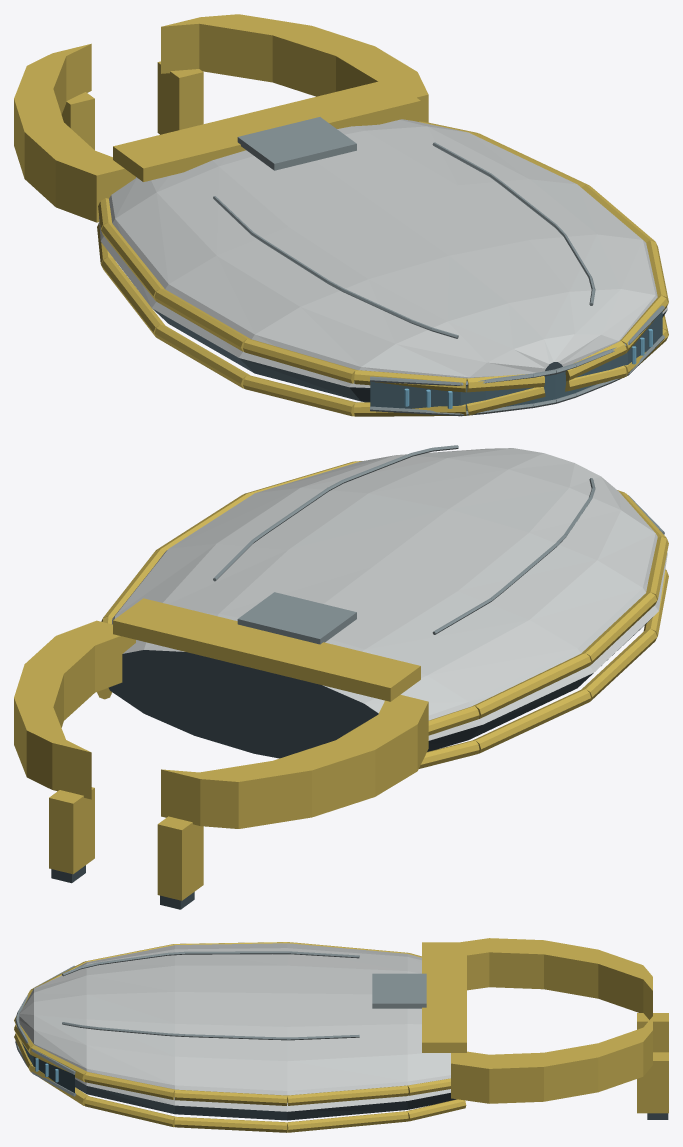
Rendered from rayfam_yellow_off.glb.
The picture shows the model from 3 angles, top to bottom: view 1: azimuth 30°, elevation 25°; view 2: azimuth 150°, elevation 25°; view 3: azimuth 270°, elevation 25°; orthographic projection. The views are drawn at different scales.
Visible parts, largest first — view 1: material_0, material_2, material_3, material_4, material_1, material_5; view 2: material_0, material_2, material_1, material_3; view 3: material_0, material_2, material_3, material_1, material_4.
Boxes of the visible parts, box(x1,y1,x2,y2) form: material_0: box(99, 119, 667, 387); material_2: box(14, 14, 668, 416); material_3: box(213, 117, 664, 416); material_4: box(370, 311, 662, 410); material_1: box(152, 308, 667, 402); material_5: box(404, 329, 652, 408); material_0: box(112, 448, 667, 740); material_2: box(14, 461, 668, 900); material_1: box(51, 617, 652, 909); material_3: box(213, 445, 664, 644); material_0: box(19, 943, 450, 1111); material_2: box(14, 938, 668, 1132); material_3: box(15, 951, 426, 1096); material_1: box(75, 1079, 668, 1120); material_4: box(21, 1042, 74, 1093).
Size of the model in its own units: 17.71 by 5.57 by 30.64.
